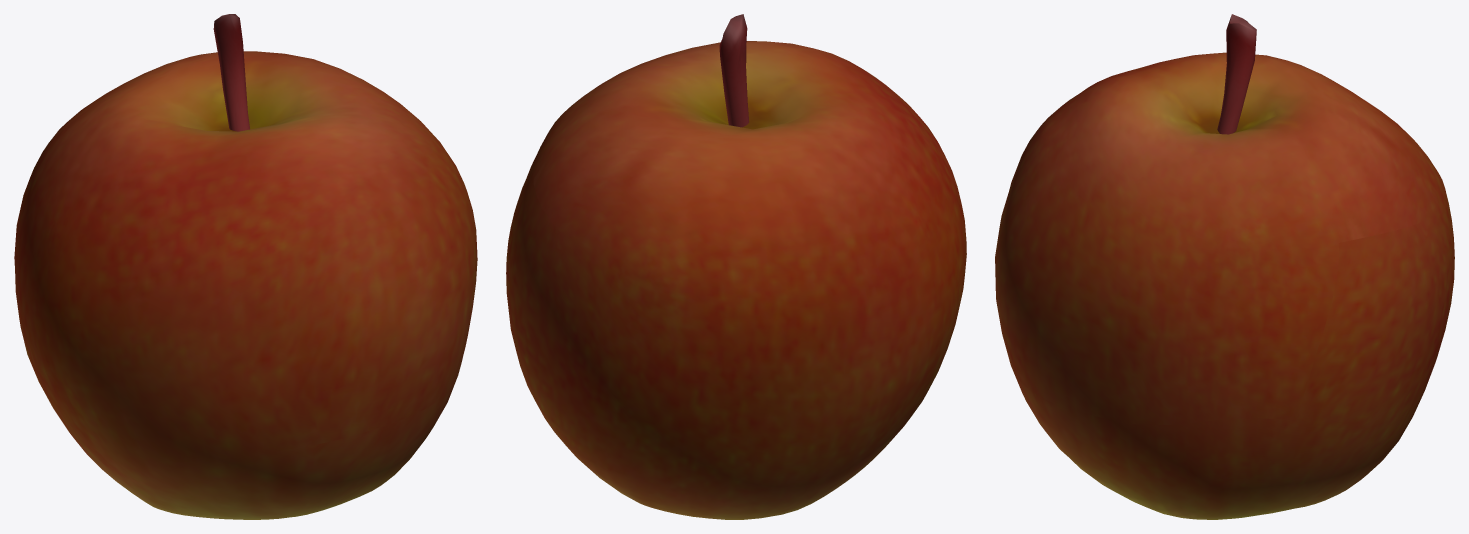
File: apple.fbx
The picture shows the model from 3 angles, left to right: view 1: azimuth 30°, elevation 25°; view 2: azimuth 150°, elevation 25°; view 3: azimuth 270°, elevation 25°; orthographic projection. The views are drawn at different scales.
Visible parts, largest first — view 1: apple; view 2: apple; view 3: apple.
Part boxes in pixels (left/top/right/bottom): apple: left=14, top=14, right=477, bottom=519; apple: left=506, top=14, right=966, bottom=519; apple: left=995, top=14, right=1454, bottom=519.
Bounding box in the file's own units: 5.25 × 5.98 × 5.33.
